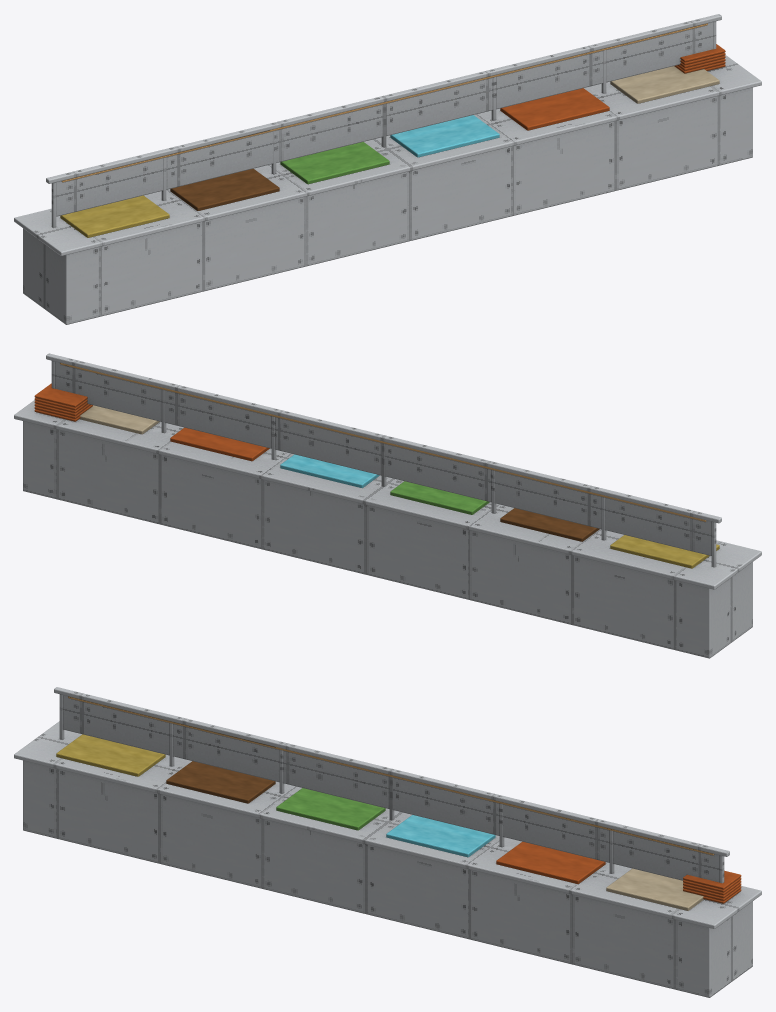
File: base_serving_counter.glb
3 views of the same model, one above another, from view 1: azimuth 30°, elevation 25°; view 2: azimuth 150°, elevation 25°; view 3: azimuth 330°, elevation 25° (orthographic).
Visible parts, largest first — view 1: base_serving_counter; view 2: base_serving_counter; view 3: base_serving_counter.
Part boxes in pixels (x1,y1,x2,y2): base_serving_counter: [14, 14, 761, 324]; base_serving_counter: [14, 353, 761, 658]; base_serving_counter: [14, 687, 761, 997].
Size of the model in its own units: 10.2 by 1.75 by 1.2.
Materials: 9 (9 with a texture image).
